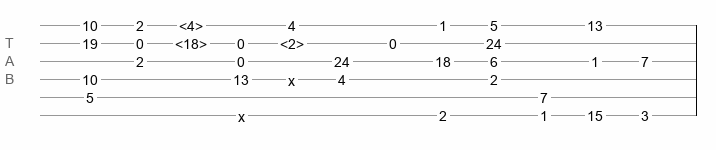0: (136, 36, 144, 46), (237, 36, 245, 46), (237, 54, 245, 64), (389, 36, 397, 46)
1: (439, 18, 447, 28), (540, 108, 548, 118), (591, 54, 599, 64)
10: (82, 72, 98, 82), (82, 18, 98, 28)
13: (233, 72, 249, 82), (587, 18, 603, 28)
15: (587, 108, 603, 118)
18: (435, 54, 451, 64)
19: (82, 36, 98, 46)
2: (136, 54, 144, 64), (136, 18, 144, 28), (439, 108, 447, 118), (490, 72, 498, 82)
24: (334, 54, 350, 64), (486, 36, 502, 46)
3: (641, 108, 649, 118)
4: (288, 18, 296, 28), (338, 72, 346, 82)
5: (86, 90, 94, 100), (490, 18, 498, 28)
6: (490, 54, 498, 64)
7: (540, 90, 548, 100), (641, 54, 649, 64)
harmonic: (175, 36, 207, 46), (179, 18, 203, 28), (280, 36, 304, 46)
x: (238, 109, 245, 117), (288, 73, 295, 81)
